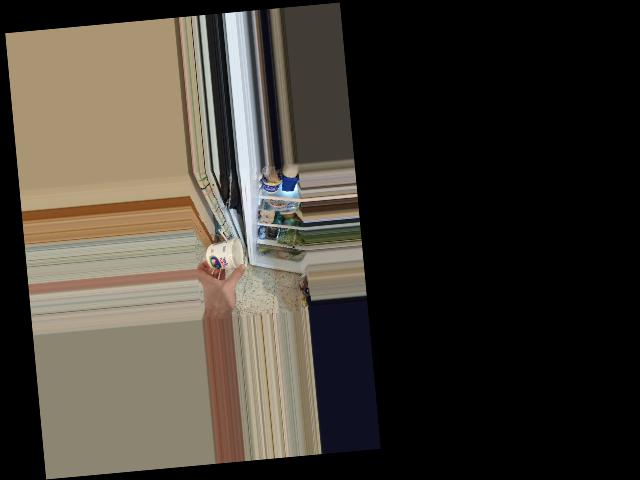cotage: (205, 238, 248, 271)
